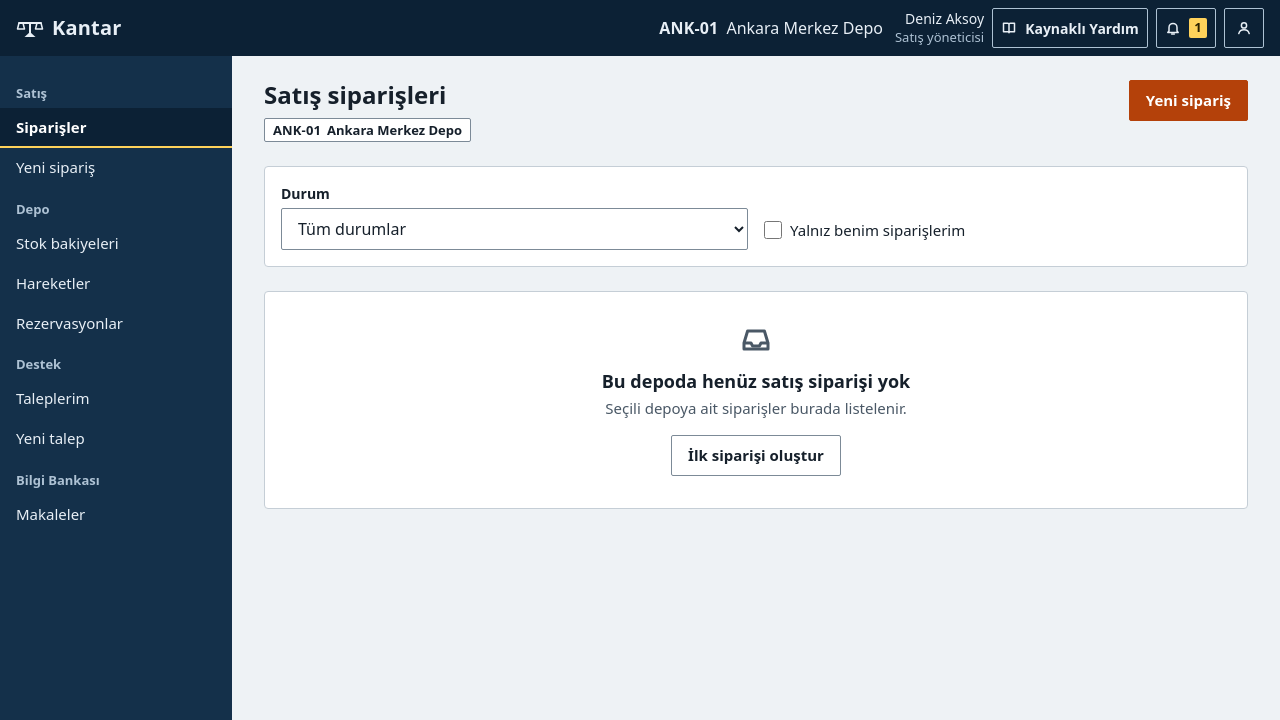
Test: kabuk › atlama bağlantısı, etiketli simge düğmeleri ve bildirim listesi sunar
This screenshot has width=1280, height=720.
Click the button named "Bildirimler, 1 okunmamış". click: click(1186, 28)
box: top-left (1156, 8), bottom-right (1216, 48)
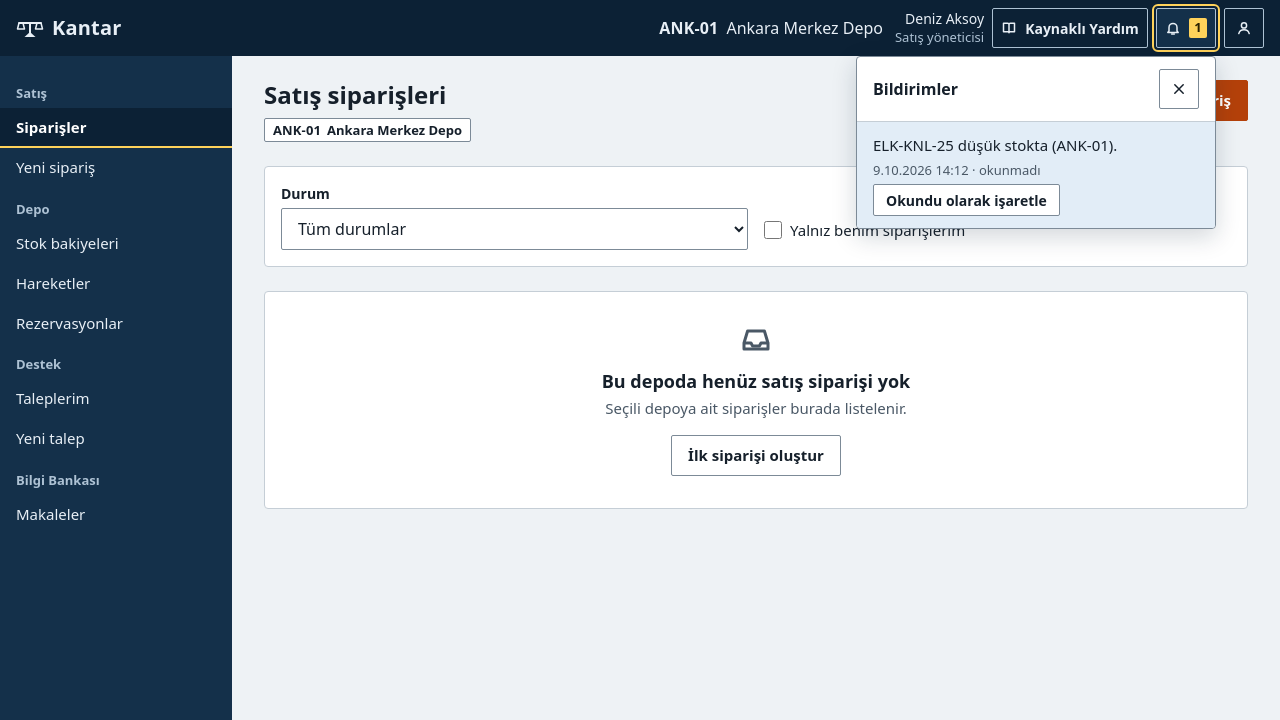
Now the element "Bildirimler" shows "ELK-KNL-25 düşük stokta (ANK-01).", box top-left (873, 135), bottom-right (1117, 155)
Click the button "Okundu olarak işaretle". click: click(966, 200)
box: top-left (873, 184), bottom-right (1060, 216)
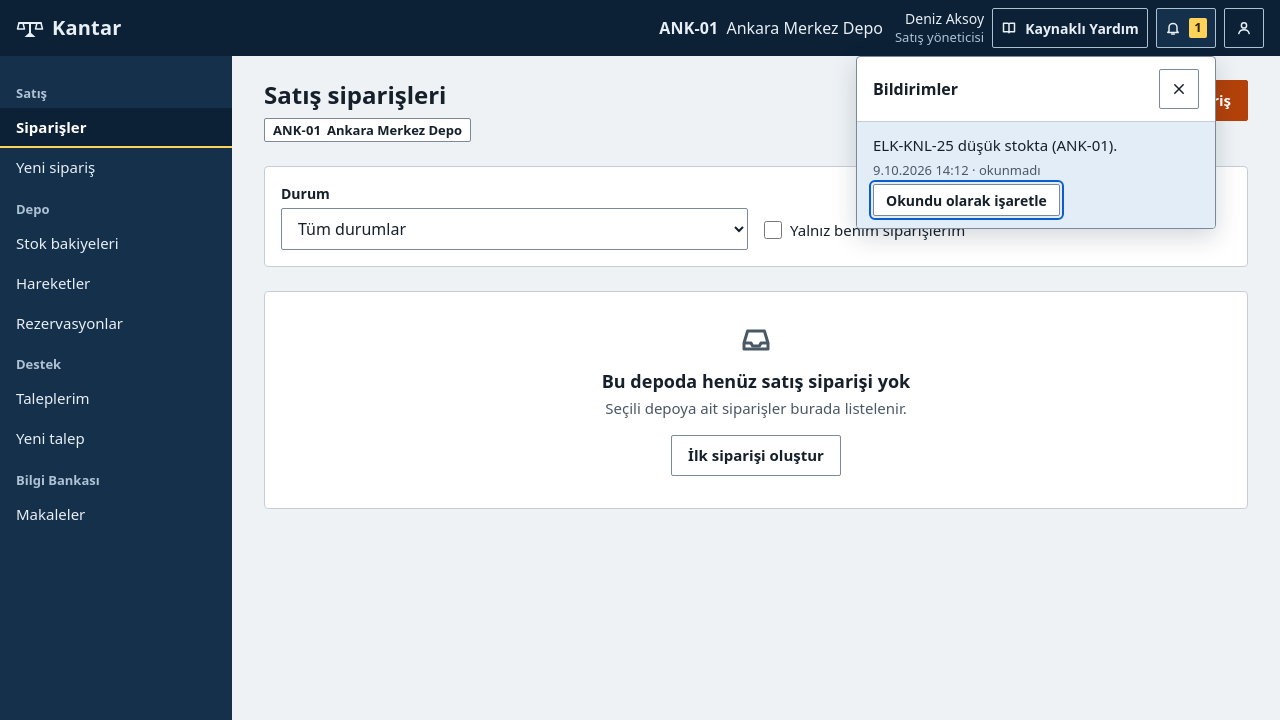
Press Escape
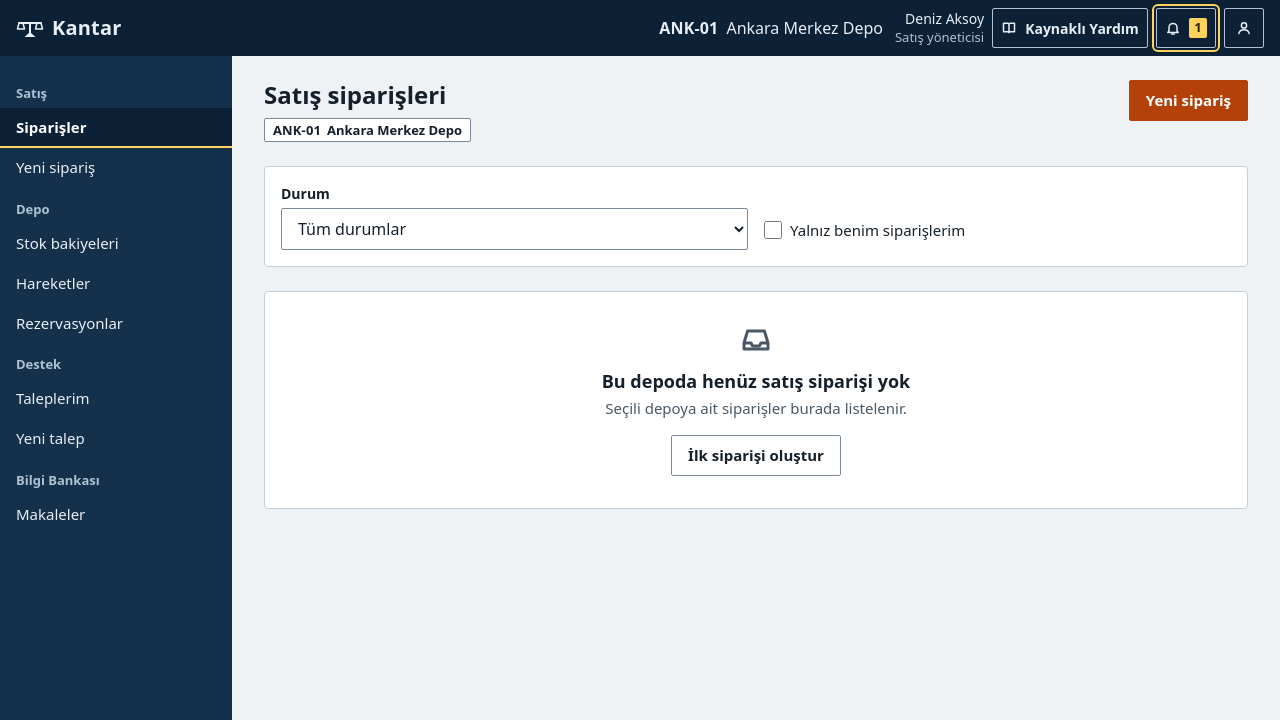
Now the heading "Bildirimler" is gone
Click the button "Kaynaklı Yardım". click: click(1070, 28)
box: top-left (992, 8), bottom-right (1148, 48)
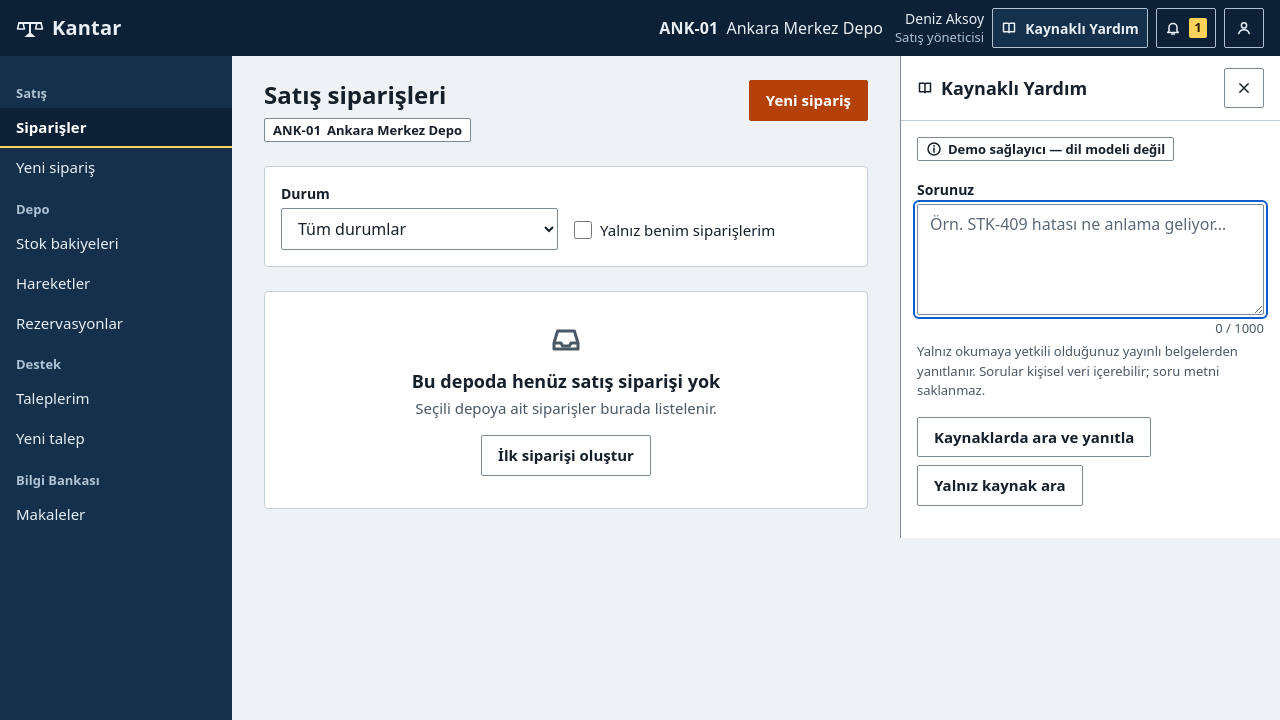
Now the element "Kaynaklı Yardım" is shown, box top-left (900, 56), bottom-right (1279, 538)
Now the text "Demo sağlayıcı — dil modeli değil" is shown, box top-left (948, 140), bottom-right (1165, 158)
